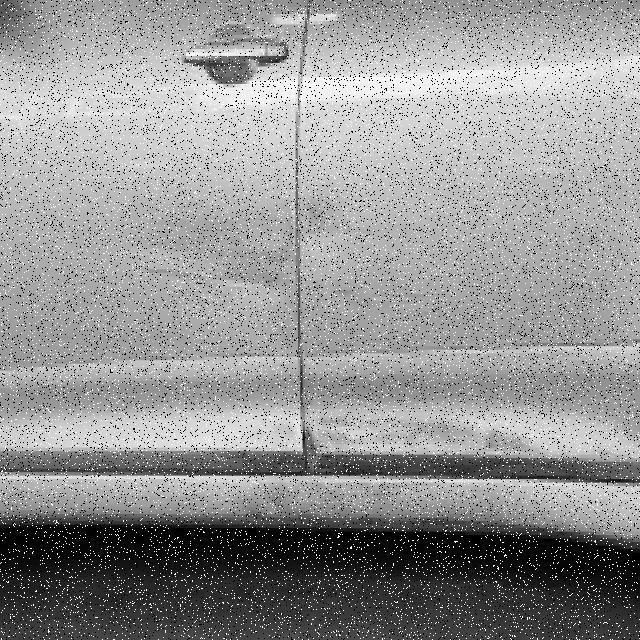Runningboard-Damage: (5, 441, 431, 535)
doorouter-dent: (296, 4, 638, 476), (6, 0, 301, 472)
